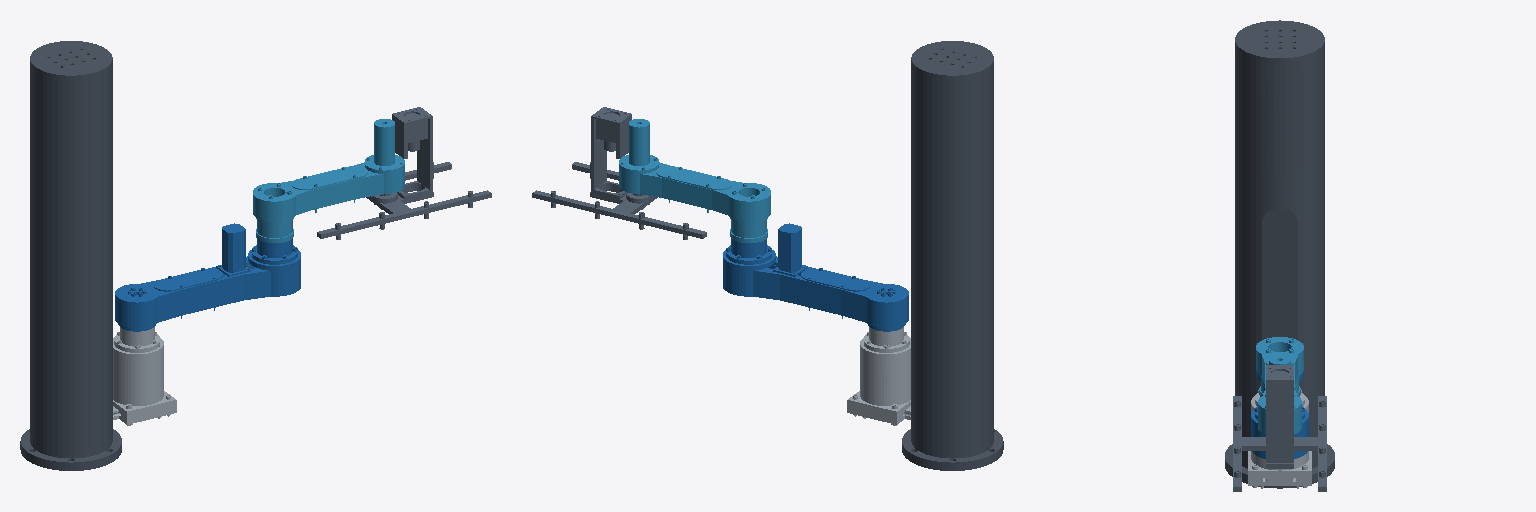
robot.urdf — prrr_complete_arm:
<?xml version='1.0' encoding='utf-8'?>
<robot name="prrr_complete_arm">
  <!-- Complete improved SolidWorks arm: 1 prismatic + 3 continuous CAD joints. All SI units. -->
  <!-- Native assembly uses Y up; this URDF uses Z up. Mesh vertices are in metres: scale=1. -->
  <!-- Mass properties are CAD reference values. Unassigned materials are listed in README.zh-CN.md. -->
  <!-- Lift effort=0 and velocity=0 mean actuator ratings are unspecified; configure them before control. -->
  <link name="base_footprint" />
  <joint name="base_mount_joint" type="fixed">
    <parent link="base_footprint" />
    <child link="base_link" />
    <origin xyz="0 0 0" rpy="0 0 0" />
  </joint>
  <link name="base_link">
    <inertial>
      <origin xyz="-0.0119820805351 -4.0967544188e-08 0.341355846625" rpy="0 0 0" />
      <mass value="8.72355690012" />
      <inertia ixx="0.365000694243" ixy="2.4778094055e-08" ixz="-0.00429152164224" iyy="0.362297637435" iyz="-4.64232103197e-08" izz="0.0195976339654" />
    </inertial>
    <visual name="base_link_visual">
      <origin xyz="0 0 0" rpy="0 0 0" />
      <geometry>
        <mesh filename="package://prrr_arm_description/meshes/base_link.stl" scale="1 1 1" />
      </geometry>
      <material name="base_link_color">
        <color rgba="0.34 0.38 0.43 1" />
      </material>
    </visual>
    <collision name="base_link_collision">
      <origin xyz="0 0 0" rpy="0 0 0" />
      <geometry>
        <mesh filename="package://prrr_arm_description/meshes/base_link.stl" scale="1 1 1" />
      </geometry>
    </collision>
  </link>
  <link name="lift_link">
    <inertial>
      <origin xyz="-0.0220065566947 9.82101379918e-08 0.0372227834208" rpy="0 0 0" />
      <mass value="1.64487712481" />
      <inertia ixx="0.00329063804431" ixy="3.08106513213e-07" ixz="-0.00039782188822" iyy="0.00553674428268" iyz="5.65708411456e-09" izz="0.00413261944369" />
    </inertial>
    <visual name="lift_link_visual">
      <origin xyz="0 0 0" rpy="0 0 0" />
      <geometry>
        <mesh filename="package://prrr_arm_description/meshes/lift_link.stl" scale="1 1 1" />
      </geometry>
      <material name="lift_link_color">
        <color rgba="0.67 0.71 0.75 1" />
      </material>
    </visual>
    <collision name="lift_link_collision">
      <origin xyz="0 0 0" rpy="0 0 0" />
      <geometry>
        <mesh filename="package://prrr_arm_description/meshes/lift_link.stl" scale="1 1 1" />
      </geometry>
    </collision>
  </link>
  <link name="upper_arm_link">
    <inertial>
      <origin xyz="0.138795789314 0 0.0267492527028" rpy="0 0 0" />
      <mass value="2.00666188802" />
      <inertia ixx="0.00159006956272" ixy="9.99179416207e-07" ixz="-0.00110055711886" iyy="0.0232837214714" iyz="-1.99405867468e-23" izz="0.0231948565533" />
    </inertial>
    <visual name="upper_arm_link_visual">
      <origin xyz="0 0 0" rpy="0 0 0" />
      <geometry>
        <mesh filename="package://prrr_arm_description/meshes/upper_arm_link.stl" scale="1 1 1" />
      </geometry>
      <material name="upper_arm_link_color">
        <color rgba="0.18 0.47 0.72 1" />
      </material>
    </visual>
    <collision name="upper_arm_link_collision">
      <origin xyz="0 0 0" rpy="0 0 0" />
      <geometry>
        <mesh filename="package://prrr_arm_description/meshes/upper_arm_link.stl" scale="1 1 1" />
      </geometry>
    </collision>
  </link>
  <link name="forearm_link">
    <inertial>
      <origin xyz="0.0898862433484 0 0.0141759792969" rpy="0 0 0" />
      <mass value="1.23334480802" />
      <inertia ixx="0.00101429358926" ixy="-9.48244659583e-22" ixz="-0.00116947868006" iyy="0.00988885277855" iyz="2.79967409412e-22" izz="0.00957560886443" />
    </inertial>
    <visual name="forearm_link_visual">
      <origin xyz="0 0 0" rpy="0 0 0" />
      <geometry>
        <mesh filename="package://prrr_arm_description/meshes/forearm_link.stl" scale="1 1 1" />
      </geometry>
      <material name="forearm_link_color">
        <color rgba="0.26 0.61 0.78 1" />
      </material>
    </visual>
    <collision name="forearm_link_collision">
      <origin xyz="0 0 0" rpy="0 0 0" />
      <geometry>
        <mesh filename="package://prrr_arm_description/meshes/forearm_link.stl" scale="1 1 1" />
      </geometry>
    </collision>
  </link>
  <link name="wrist_link">
    <inertial>
      <origin xyz="0.0241368620502 -1.7732525097e-06 0.0311134117898" rpy="0 0 0" />
      <mass value="0.508912937971" />
      <inertia ixx="0.00196678926862" ixy="-2.90016663415e-08" ixz="-0.000482240521495" iyy="0.00301300960569" iyz="-1.36387279957e-08" izz="0.002534811381" />
    </inertial>
    <visual name="wrist_link_visual">
      <origin xyz="0 0 0" rpy="0 0 0" />
      <geometry>
        <mesh filename="package://prrr_arm_description/meshes/wrist_link.stl" scale="1 1 1" />
      </geometry>
      <material name="wrist_link_color">
        <color rgba="0.4 0.45 0.51 1" />
      </material>
    </visual>
    <collision name="wrist_link_collision">
      <origin xyz="0 0 0" rpy="0 0 0" />
      <geometry>
        <mesh filename="package://prrr_arm_description/meshes/wrist_link.stl" scale="1 1 1" />
      </geometry>
    </collision>
  </link>
  <joint name="lift_joint" type="prismatic">
    <parent link="base_link" />
    <child link="lift_link" />
    <origin xyz="0.12 0 0.059" rpy="0 0 0" />
    <axis xyz="0 0 1" />
    <limit lower="0" upper="0.3" effort="0" velocity="0" />
  </joint>
  <joint name="shoulder_joint" type="continuous">
    <parent link="lift_link" />
    <child link="upper_arm_link" />
    <origin xyz="0 0 0.14" rpy="0 0 0" />
    <axis xyz="0 0 1" />
  </joint>
  <joint name="elbow_joint" type="continuous">
    <parent link="upper_arm_link" />
    <child link="forearm_link" />
    <origin xyz="0.25 0 0.127" rpy="0 0 0" />
    <axis xyz="0 0 1" />
  </joint>
  <joint name="wrist_joint" type="continuous">
    <parent link="forearm_link" />
    <child link="wrist_link" />
    <origin xyz="0.2 0 -0.022" rpy="0 0 0" />
    <axis xyz="0 0 1" />
  </joint>
  <link name="tool0" />
  <joint name="tool0_fixed_joint" type="fixed">
    <parent link="wrist_link" />
    <child link="tool0" />
    <origin xyz="0 0 -0.0185" rpy="0 0 0" />
  </joint>
</robot>

--- Facts derived from the render (not from the file) ---
3 views of the same robot in one strip: view 1: azimuth 30°, elevation 25°; view 2: azimuth 150°, elevation 25°; view 3: azimuth 270°, elevation 25° (orthographic).
Model prrr_complete_arm with 7 links and 6 joints (3 continuous, 1 prismatic, 2 fixed), rooted at base_footprint, posed every joint at zero.
Links seen in each view (by area): view 1: base_link, upper_arm_link, forearm_link, wrist_link, lift_link; view 2: base_link, upper_arm_link, forearm_link, wrist_link, lift_link; view 3: base_link, wrist_link, forearm_link, lift_link, upper_arm_link.
Link boxes in pixels (x1,y1,x2,y2): base_link: (20, 41, 121, 470); upper_arm_link: (115, 223, 300, 331); forearm_link: (253, 119, 404, 242); wrist_link: (317, 107, 491, 239); lift_link: (113, 327, 176, 425); base_link: (902, 41, 1003, 470); upper_arm_link: (723, 223, 908, 331); forearm_link: (619, 119, 770, 242); wrist_link: (532, 107, 706, 239); lift_link: (847, 327, 910, 425); base_link: (1225, 20, 1334, 488); wrist_link: (1233, 365, 1326, 491); forearm_link: (1256, 337, 1303, 434); lift_link: (1248, 390, 1311, 488); upper_arm_link: (1251, 371, 1308, 458).
Bounding box of the posed robot: 0.805 × 0.1599 × 0.68 m (x, y, z).
5 mesh visuals loaded from 5 distinct referenced files (5 binary STL).
